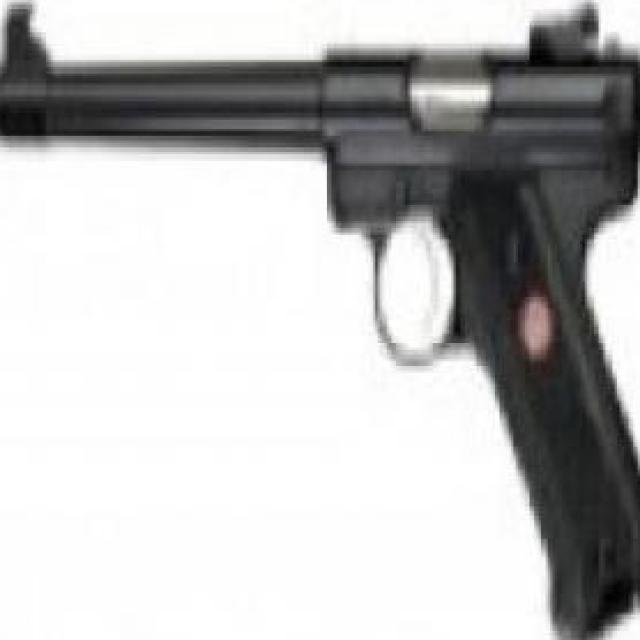pistol: (0, 5, 640, 638)
